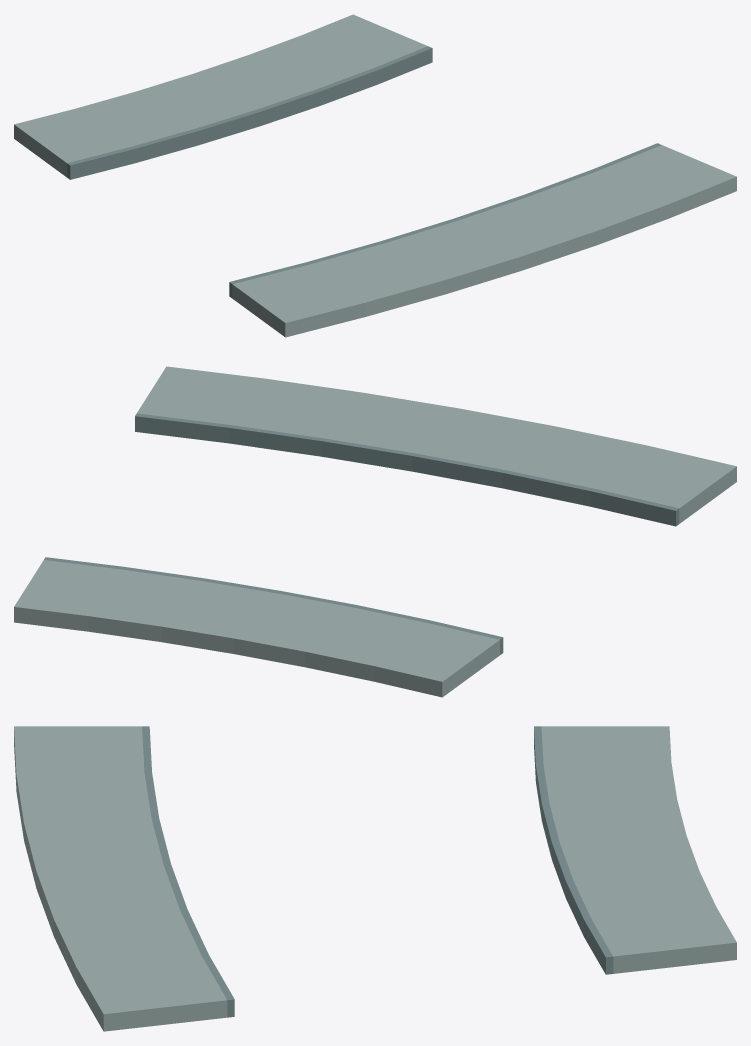
File: RoadPlan_WalkCurve_2L_A15_R36.glb
3 views of the same model, one above another, from view 1: azimuth 30°, elevation 25°; view 2: azimuth 150°, elevation 25°; view 3: azimuth 270°, elevation 25° (orthographic). The views are drawn at different scales.
Parts seen in each view (by area): view 1: RoadPlan_WalkCurve_2L_A15_R36_Paving_-1, RoadPlan_WalkCurve_2L_A15_R36_Paving_1, RoadPlan_WalkCurve_2L_A15_R36_Curb_1, RoadPlan_WalkCurve_2L_A15_R36_Curb_-1; view 2: RoadPlan_WalkCurve_2L_A15_R36_Paving_1, RoadPlan_WalkCurve_2L_A15_R36_Paving_-1, RoadPlan_WalkCurve_2L_A15_R36_Curb_-1, RoadPlan_WalkCurve_2L_A15_R36_Curb_1; view 3: RoadPlan_WalkCurve_2L_A15_R36_Paving_-1, RoadPlan_WalkCurve_2L_A15_R36_Paving_1, RoadPlan_WalkCurve_2L_A15_R36_Curb_1, RoadPlan_WalkCurve_2L_A15_R36_Curb_-1.
Boxes of the visible parts, x1,y1,x2,y2 form: RoadPlan_WalkCurve_2L_A15_R36_Paving_-1: (232,145,736,337); RoadPlan_WalkCurve_2L_A15_R36_Paving_1: (14,14,427,177); RoadPlan_WalkCurve_2L_A15_R36_Curb_1: (67,46,432,179); RoadPlan_WalkCurve_2L_A15_R36_Curb_-1: (229,143,661,298); RoadPlan_WalkCurve_2L_A15_R36_Paving_1: (14,560,499,697); RoadPlan_WalkCurve_2L_A15_R36_Paving_-1: (137,366,736,523); RoadPlan_WalkCurve_2L_A15_R36_Curb_-1: (135,413,679,526); RoadPlan_WalkCurve_2L_A15_R36_Curb_1: (44,557,503,654); RoadPlan_WalkCurve_2L_A15_R36_Paving_-1: (14,726,227,1031); RoadPlan_WalkCurve_2L_A15_R36_Paving_1: (541,726,736,973); RoadPlan_WalkCurve_2L_A15_R36_Curb_1: (534,726,613,974); RoadPlan_WalkCurve_2L_A15_R36_Curb_-1: (142,726,234,1017).
Bounding box in the file's own units: 10.64 × 0.3 × 11.29.
